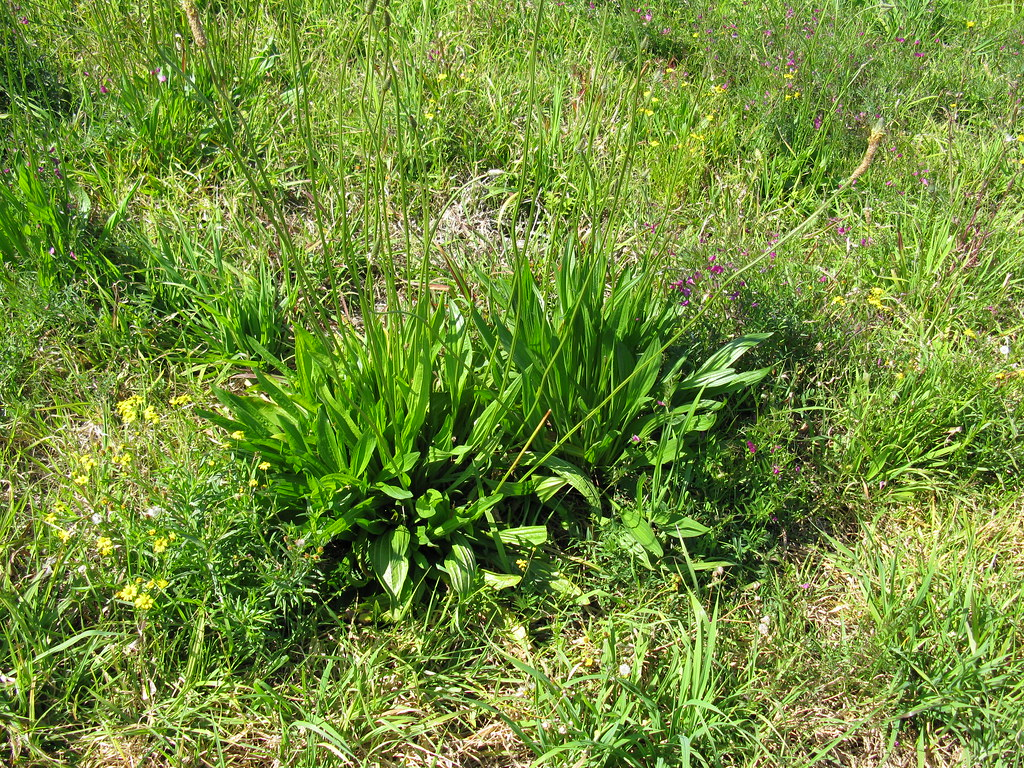buckhorn plantain: (156, 6, 504, 551), (493, 11, 747, 518)
